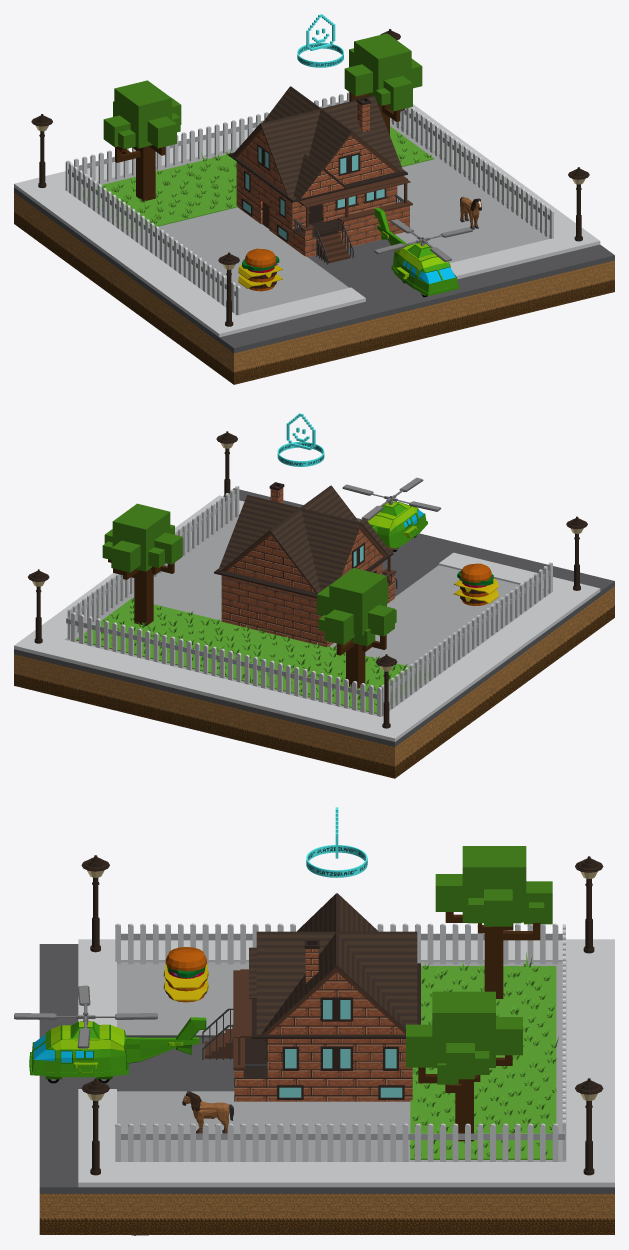
The picture shows the model from 3 angles, top to bottom: view 1: azimuth 30°, elevation 25°; view 2: azimuth 150°, elevation 25°; view 3: azimuth 270°, elevation 25°; orthographic projection. The views are drawn at different scales.
Visible parts, largest first — view 1: Cube.004, Cube.469, VEHICLES_HELICOPTER, OBJRANDOM_HAMBURGER, TYPE_PREMIUM, ANIMAL_CABALLO; view 2: Cube.004, Cube.469, VEHICLES_HELICOPTER, OBJRANDOM_HAMBURGER, TYPE_PREMIUM; view 3: Cube.004, Cube.469, VEHICLES_HELICOPTER, OBJRANDOM_HAMBURGER, TYPE_PREMIUM, ANIMAL_CABALLO.
Boxes of the visible parts, x1,y1,x2,y2 form: Cube.004: (14,29,614,384); Cube.469: (228,86,412,264); VEHICLES_HELICOPTER: (374,207,472,297); OBJRANDOM_HAMBURGER: (238,248,282,291); TYPE_PREMIUM: (297,14,343,67); ANIMAL_CABALLO: (460,196,481,229); Cube.004: (14,431,614,778); Cube.469: (214,482,397,647); VEHICLES_HELICOPTER: (342,477,441,551); OBJRANDOM_HAMBURGER: (453,563,498,605); TYPE_PREMIUM: (277,413,324,466); Cube.004: (39,846,614,1234); Cube.469: (202,893,420,1101); VEHICLES_HELICOPTER: (14,985,206,1083); OBJRANDOM_HAMBURGER: (163,947,208,1002); TYPE_PREMIUM: (306,807,367,877); ANIMAL_CABALLO: (182,1091,233,1133).
Size of the model in its own units: 4000 by 2440 by 4179.
38 materials, 5 textured.
